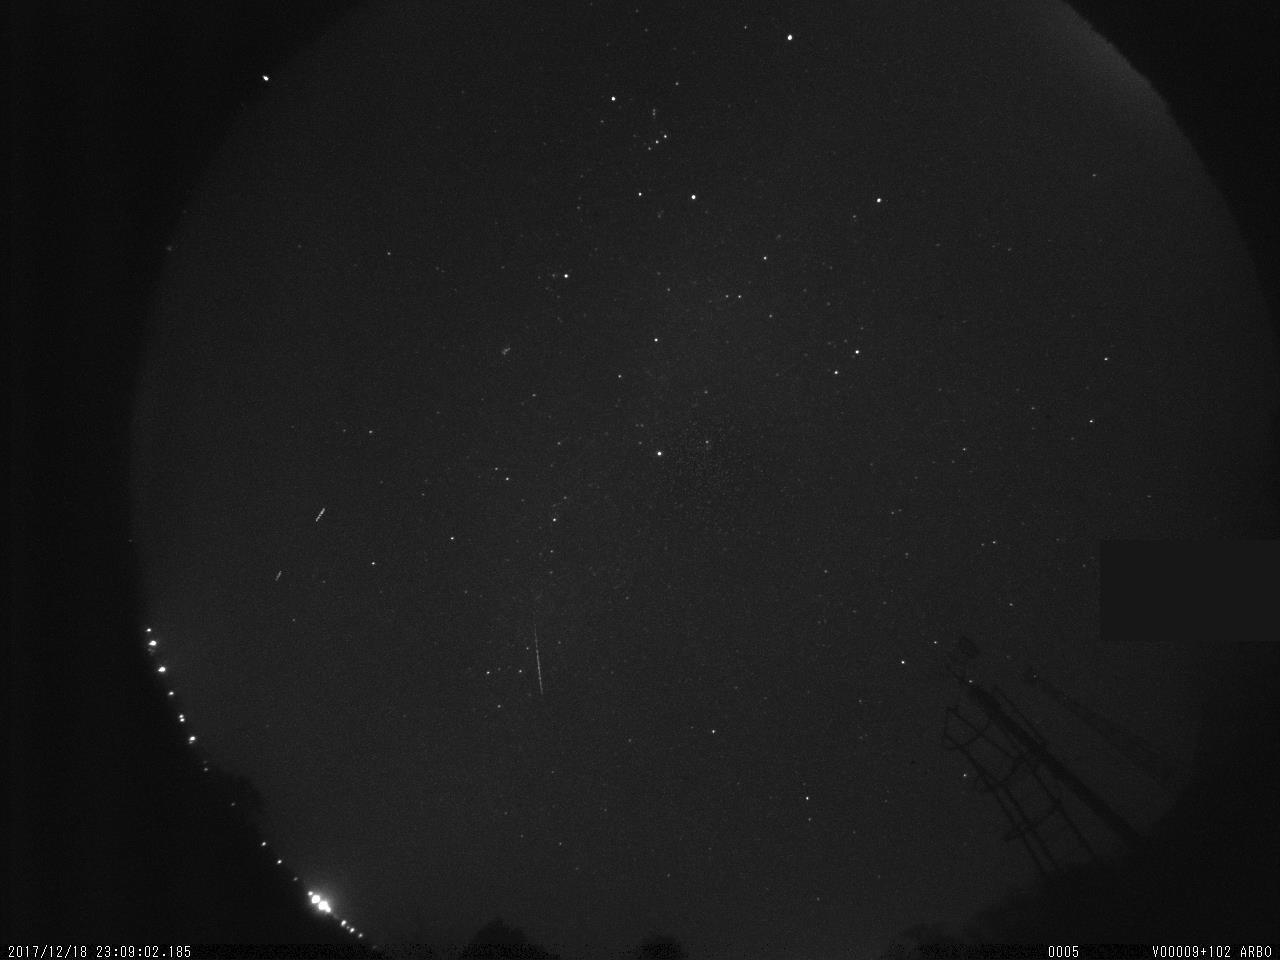Meteor: (523, 616, 553, 702)
